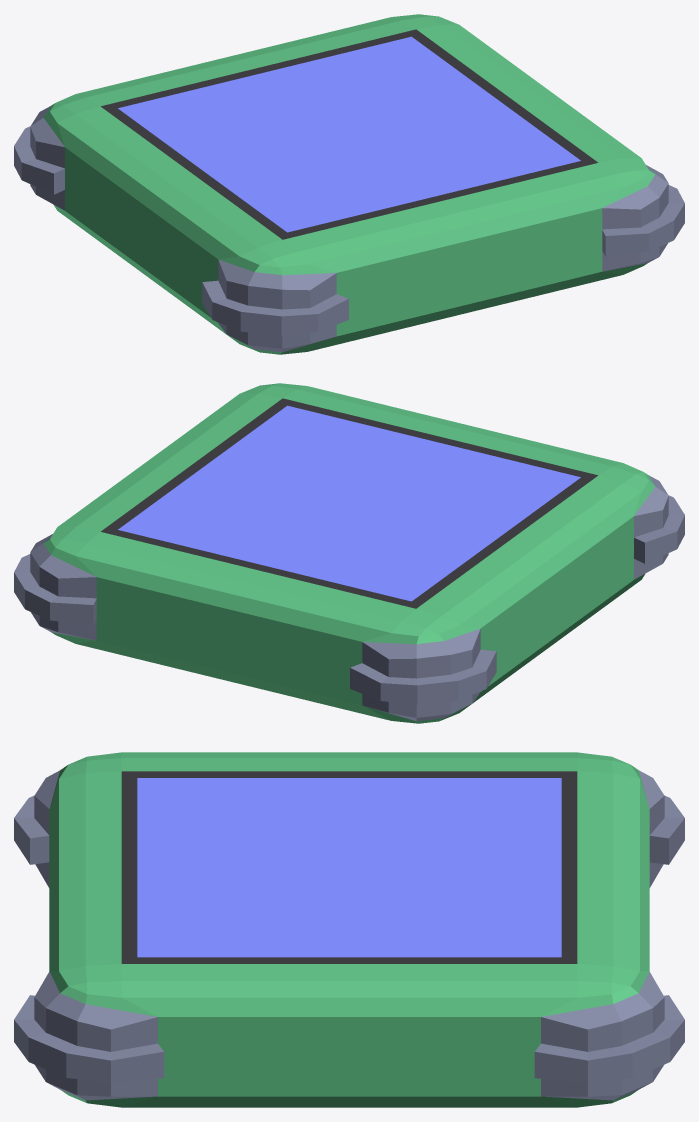
The model's file is PlataformTeleport.glb.
The picture shows the model from 3 angles, top to bottom: view 1: azimuth 30°, elevation 25°; view 2: azimuth 150°, elevation 25°; view 3: azimuth 270°, elevation 25°; orthographic projection. The views are drawn at different scales.
Parts seen in each view (by area): view 1: Cube; view 2: Cube; view 3: Cube.
Part boxes in pixels (<box>): Cube: <box>14,14,684,354</box>; Cube: <box>14,383,684,723</box>; Cube: <box>14,752,684,1107</box>.
Size of the model in its own units: 7.1 by 1.46 by 7.1.
